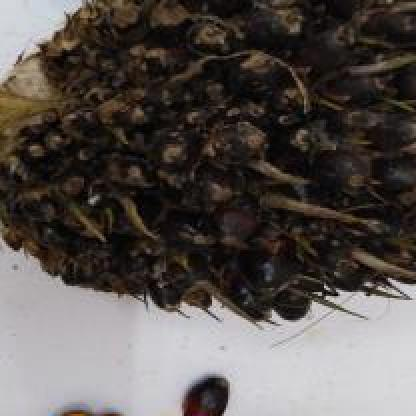Unripe: (0, 0, 416, 326)
